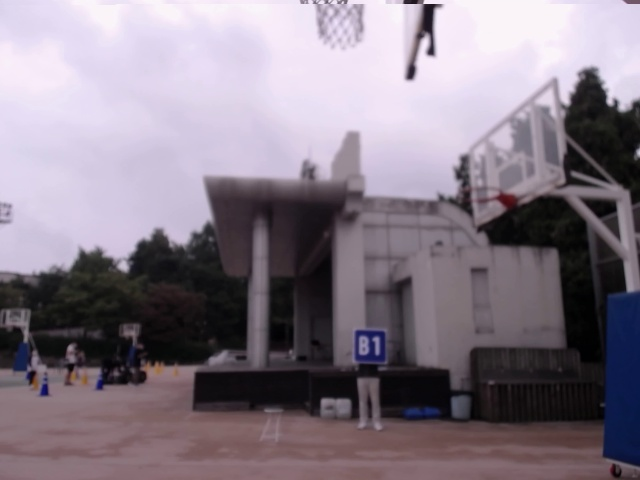delivery_b1: (353, 328, 387, 364)
